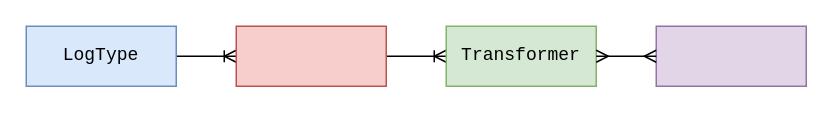
Some shapes in this 833 by 113 pixel diagram are drawn without their labels. The shapes that lost their labels are listed below. From the top down, each one's centre as x and y in pixels, then its label:
the point at 310,55: Rule
the point at 730,55: endpoint
